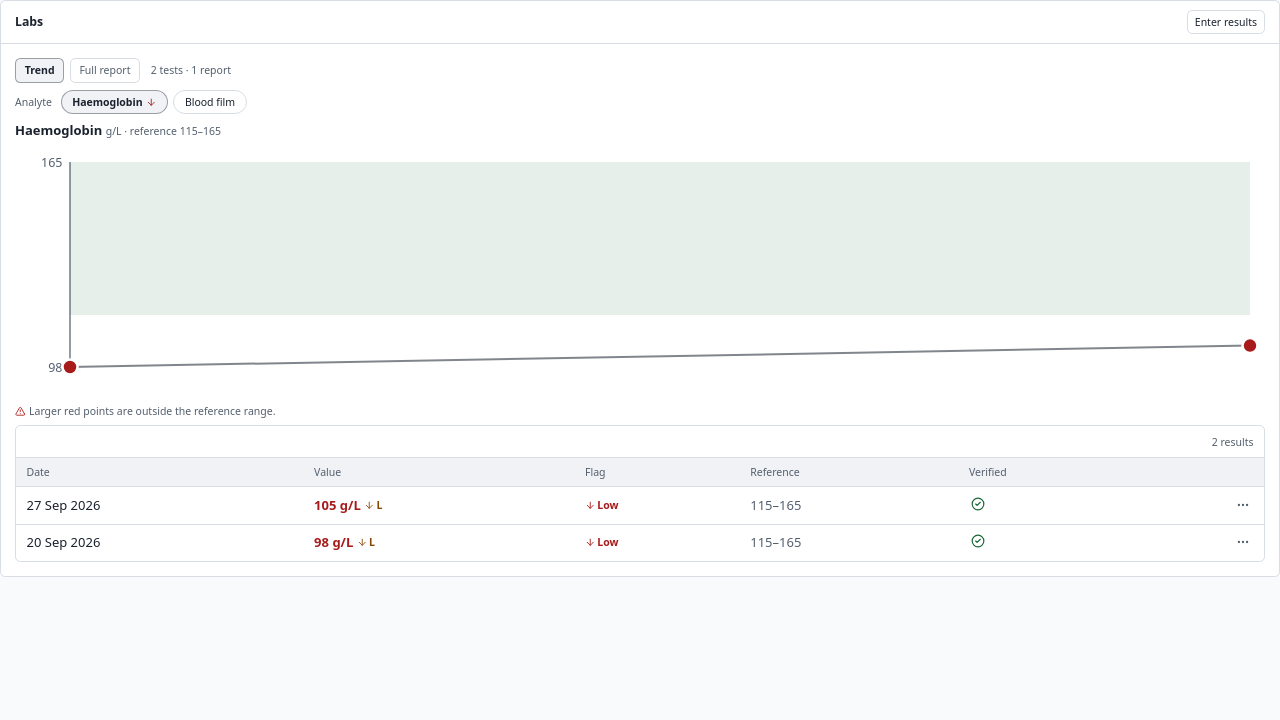
Labs › charts a trend with the reference range shaded
This screenshot has width=1280, height=720.
Expected: the picture named "Haemoglobin trend" is shown, x1=15 y1=147 x2=1265 y2=397
Expected: the element with test id "reference-band" is shown, x1=70 y1=162 x2=1250 y2=315
What coordinates should you click on to do the following:
click the button "Blood film"
I would click on:
 (210, 102)
Its box is x1=173 y1=90 x2=247 y2=114.
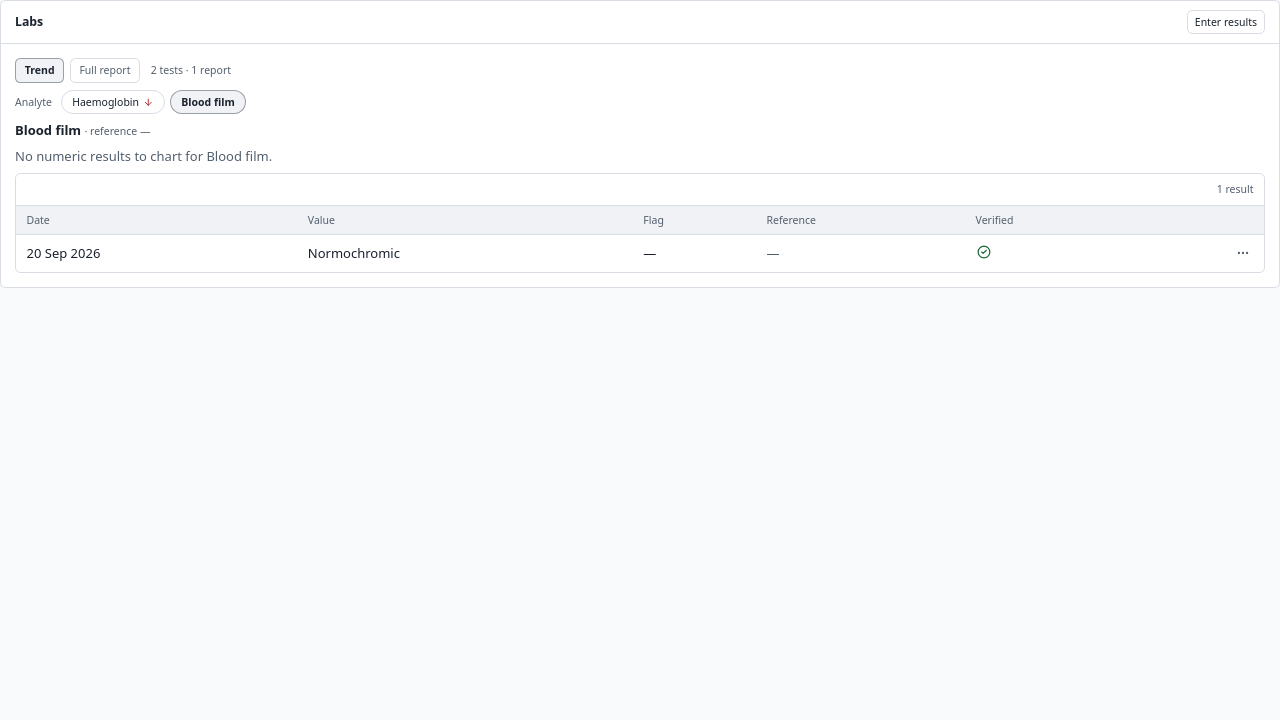
Now the text "No numeric results to chart for Blood film." is shown, box x1=15 y1=147 x2=272 y2=165
